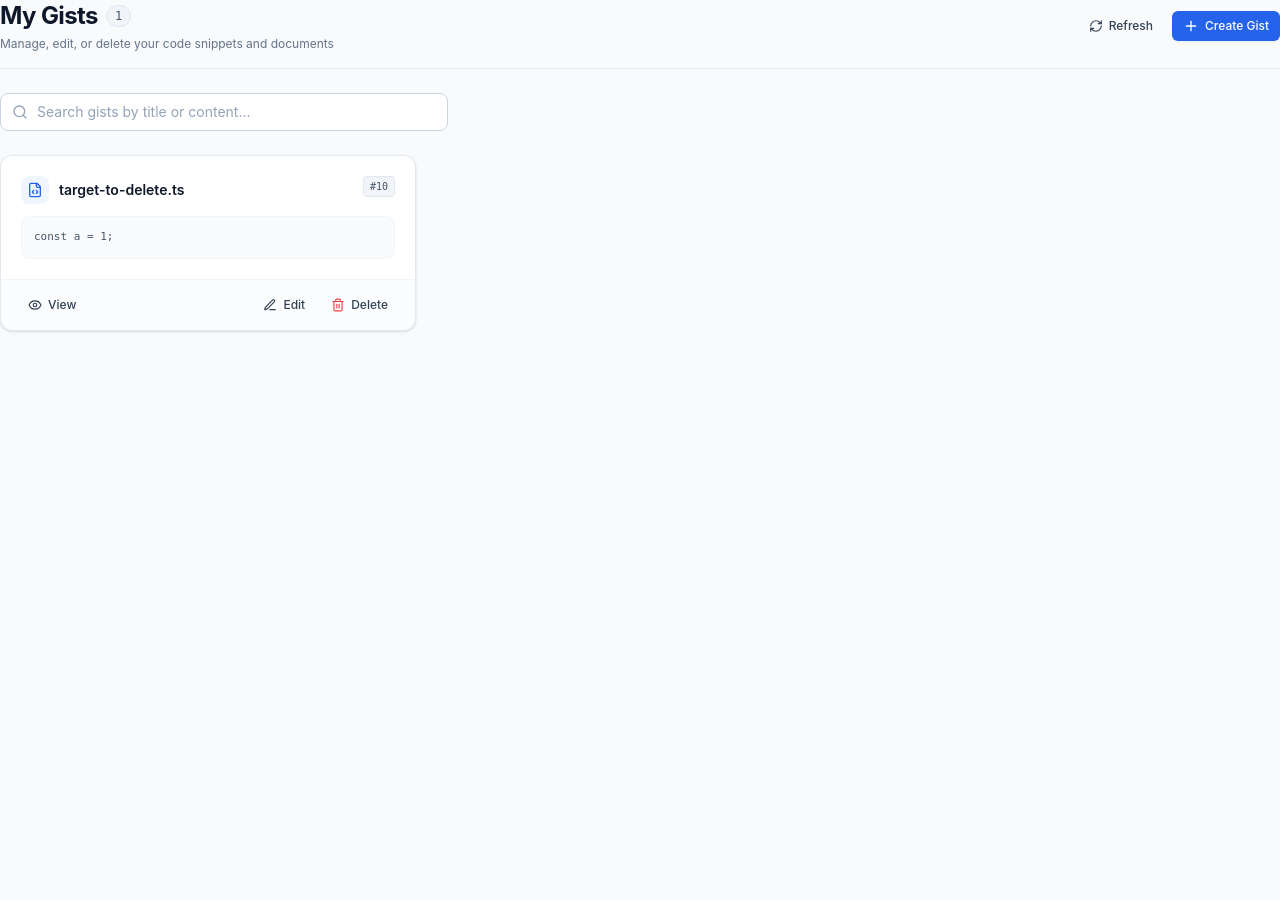
MyGistsPage Component › opens delete confirmation modal when delete button is clicked
Expected: the heading "target-to-delete.ts" is shown, [59,180,184,200]
Click the button "Delete" at (360, 304), box [320,290,399,320]
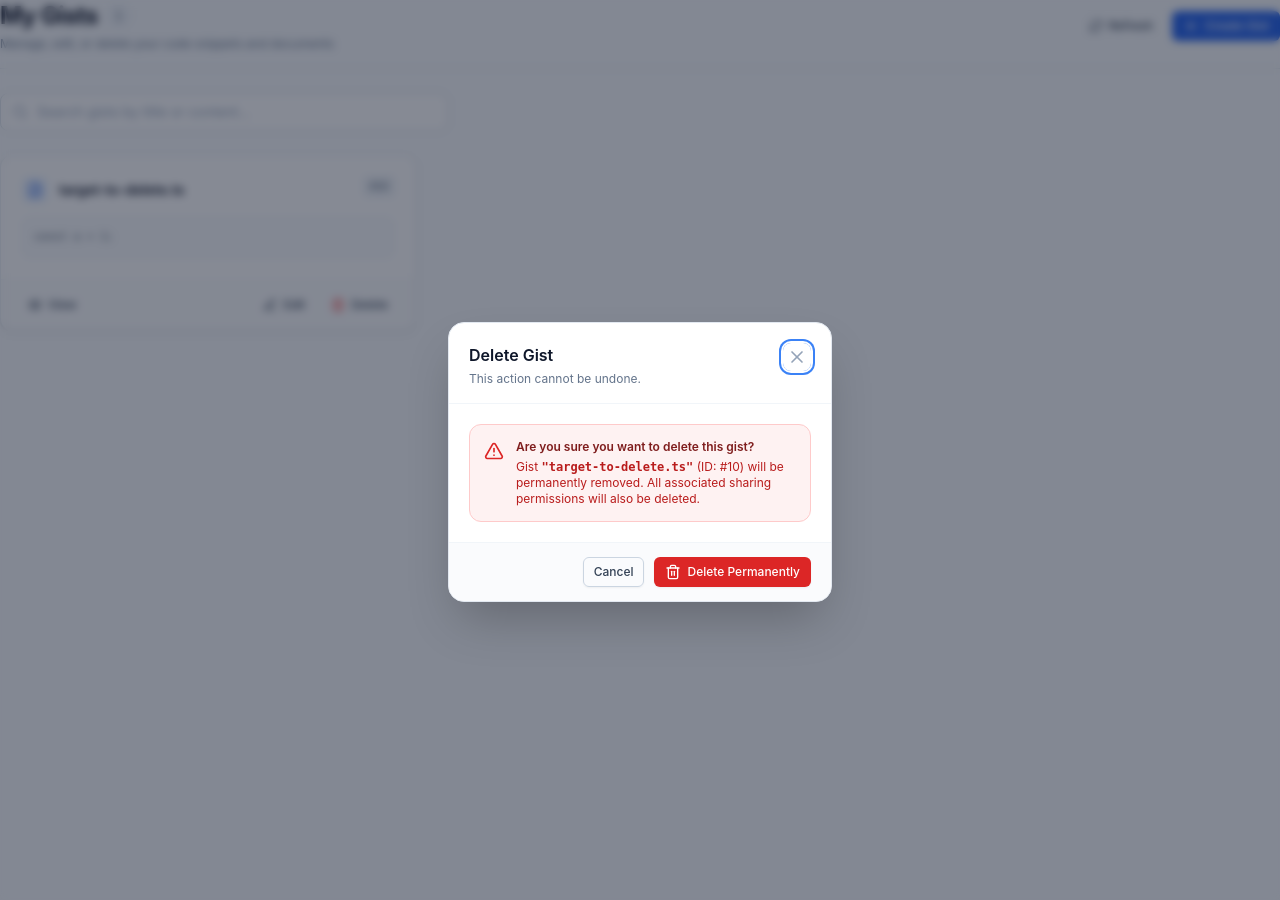
Expected: the heading "Delete Gist" is shown, [469,345,553,365]
Expected: the text "Are you sure you want to delete this gist?" is shown, [516,439,796,455]
Expected: the text "\"target-to-delete.ts\"" is shown, [542,460,693,474]
